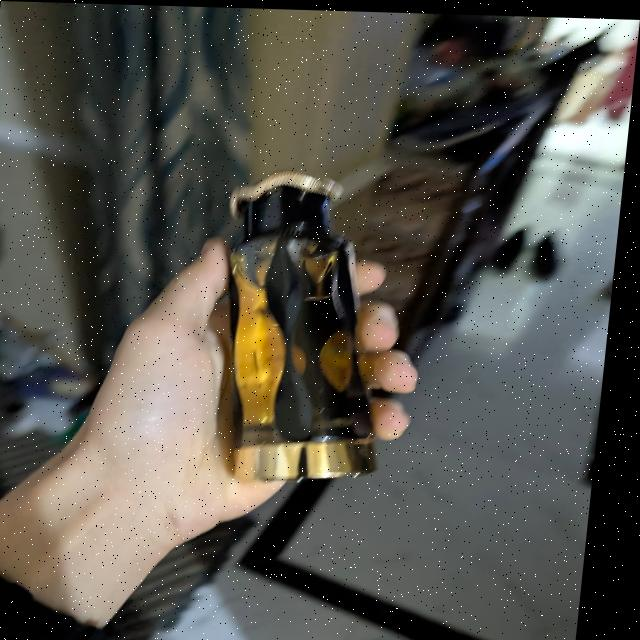Teriaq-Intense: (208, 165, 411, 482)
